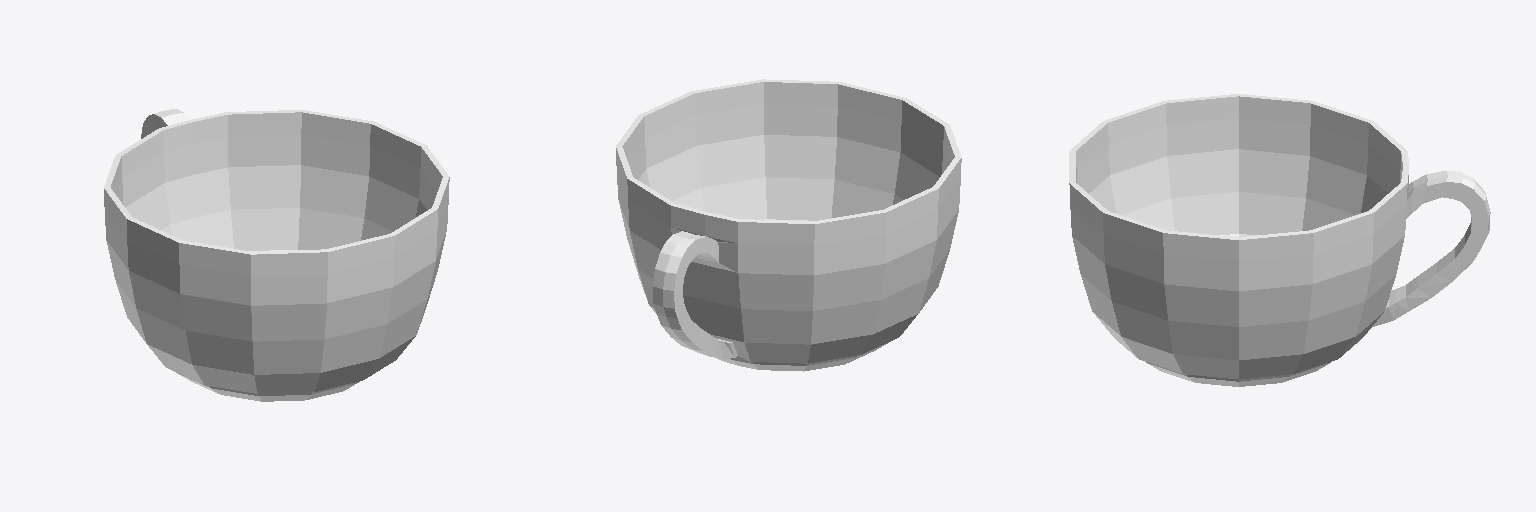
File: cupa.obj
The picture shows the model from 3 angles: view 1: azimuth 30°, elevation 25°; view 2: azimuth 150°, elevation 25°; view 3: azimuth 270°, elevation 25°; orthographic projection.
Visible parts, largest first — view 1: cupa; view 2: cupa; view 3: cupa.
Part boxes in pixels (left/top/right/bottom): cupa: left=104, top=109, right=449, bottom=401; cupa: left=616, top=79, right=961, bottom=371; cupa: left=1069, top=94, right=1490, bottom=386.
Size of the model in its own units: 0.0534 by 0.0303 by 0.0648.